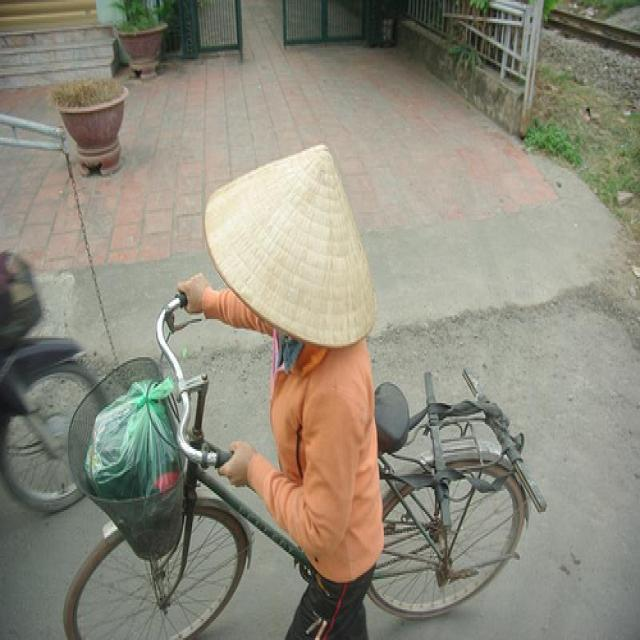motor: (0, 251, 107, 510)
